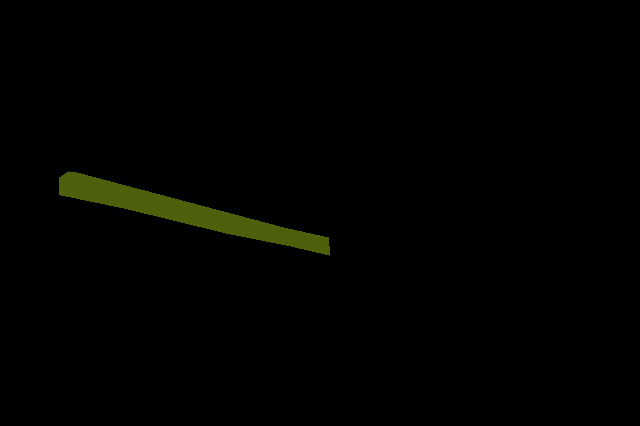Train: (59, 171, 330, 256)
